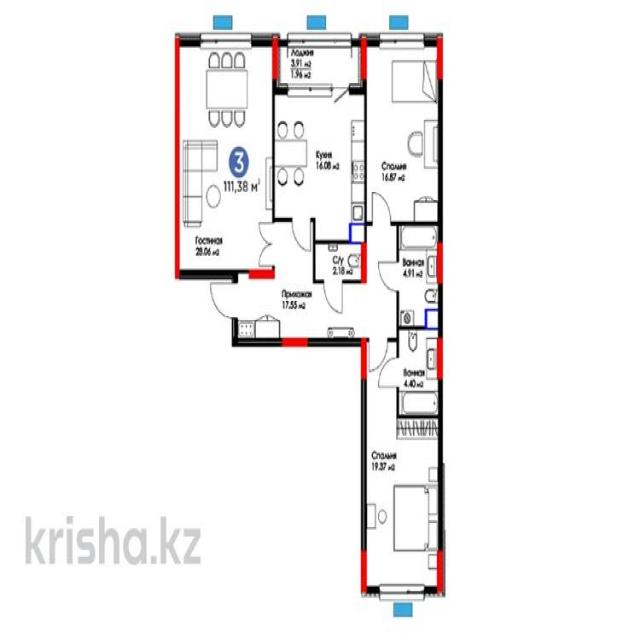balcony: (278, 40, 362, 86)
bathroom: (398, 226, 437, 326), (400, 330, 438, 415), (315, 242, 362, 280)
hallway: (238, 284, 365, 334)
kitchen: (275, 92, 363, 236)
living_room: (179, 40, 273, 269), (366, 40, 438, 222), (367, 429, 437, 585)
